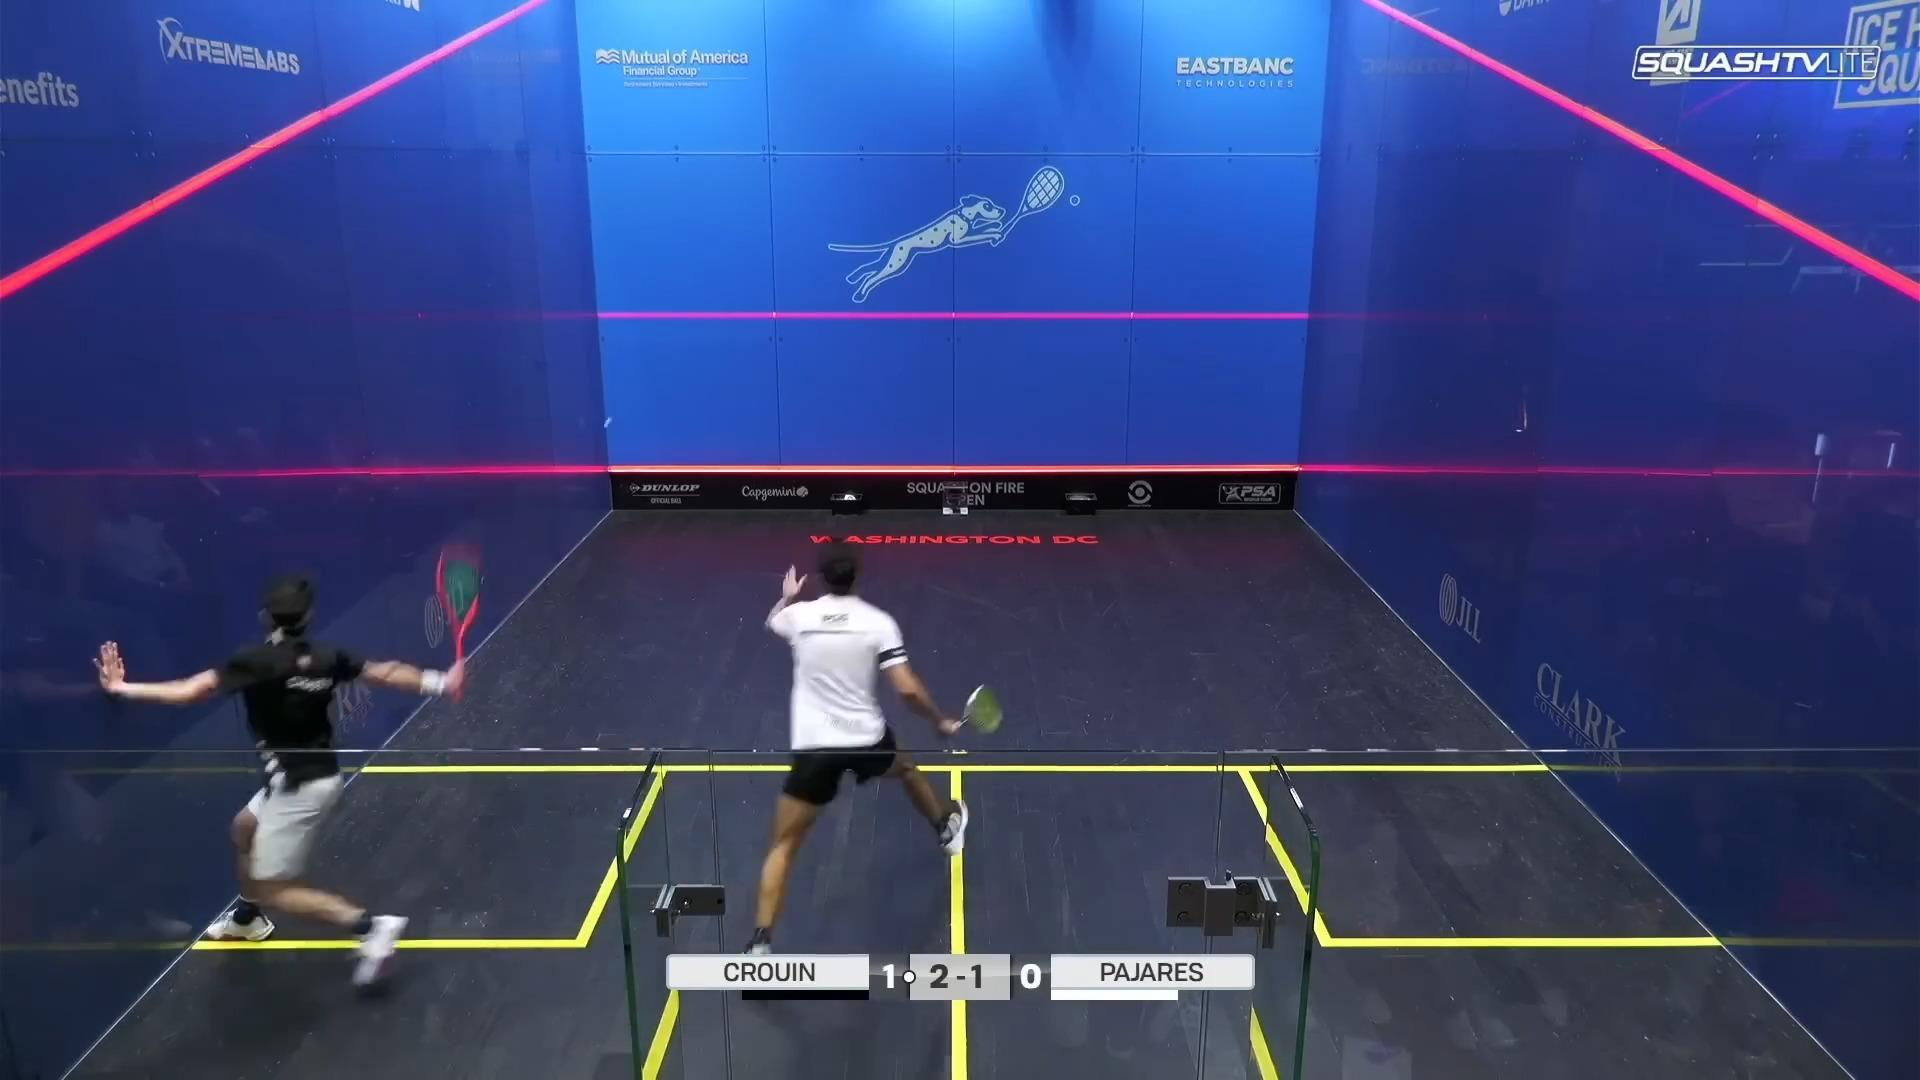Squash-Ball: (589, 405, 625, 443)
